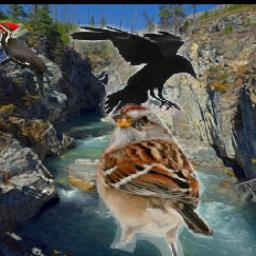Crow: (71, 25, 198, 119)
Sparrow: (94, 103, 213, 256)
Woodpecker: (0, 20, 54, 104)
